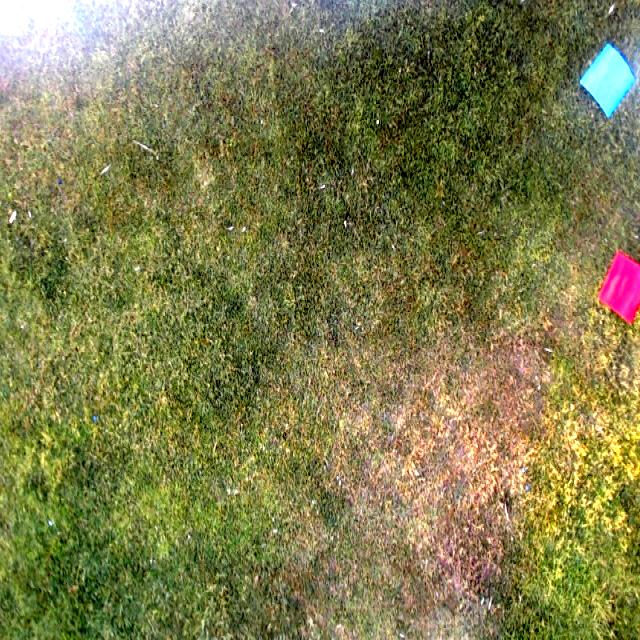blue_square: (582, 44, 633, 119)
